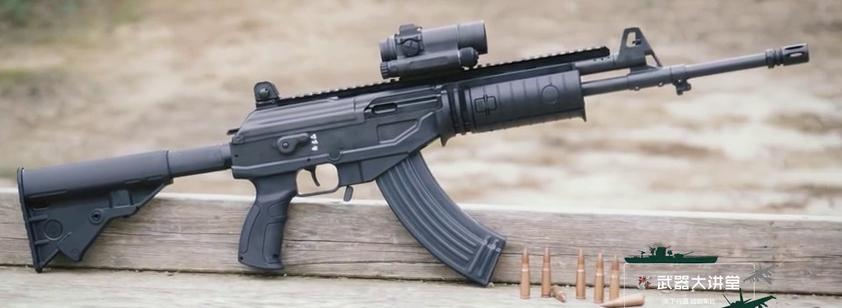gun: (1, 1, 842, 308)
